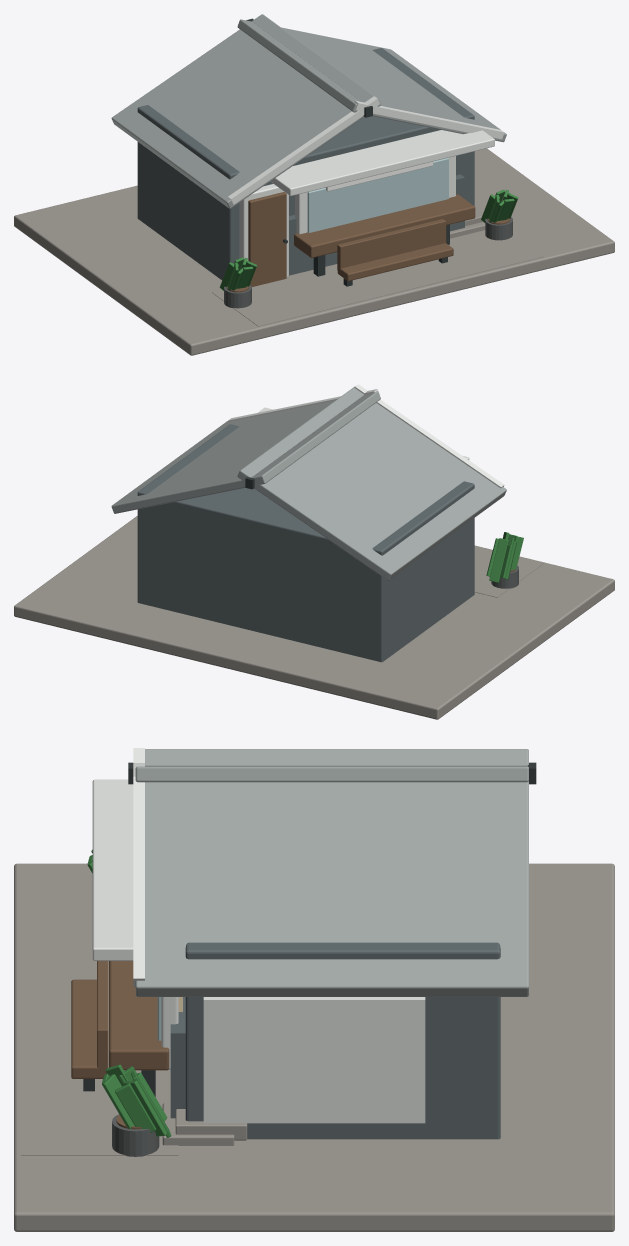
The model's file is canteen.fbx.
The picture shows the model from 3 angles, top to bottom: view 1: azimuth 30°, elevation 25°; view 2: azimuth 150°, elevation 25°; view 3: azimuth 270°, elevation 25°; orthographic projection. The views are drawn at different scales.
Parts seen in each view (by area): view 1: Platform, RoofLeft, MainBuilding, EntranceSlab, RoofRight, FrontAwning, ServingWindowGlass, Counter, Door, BenchBack, FasciaLeft, BenchSeat (+7 smaller); view 2: MainBuilding, Platform, RoofLeft, RoofRight, EntranceSlab, FasciaLeft, FasciaRight, Leaf.002; view 3: Platform, RoofRight, RightSidePanel, MainBuilding, EntranceSlab, FrontAwning, RoofLeft, Counter, BenchSeat, FasciaRight, FrontLowerWall, BenchBack (+5 smaller).
Part boxes in pixels (x1,y1,x2,y2): Platform: (14, 148, 614, 355); RoofLeft: (111, 14, 380, 208); MainBuilding: (137, 48, 474, 280); EntranceSlab: (212, 230, 543, 326); RoofRight: (237, 19, 506, 142); FrontAwning: (270, 130, 494, 195); ServingWindowGlass: (307, 158, 448, 232); Counter: (294, 194, 475, 257); Door: (248, 192, 286, 286); BenchBack: (337, 219, 446, 271); FasciaLeft: (228, 96, 379, 204); BenchSeat: (337, 243, 453, 281); MainBuilding: (137, 424, 474, 662); Platform: (14, 516, 614, 719); RoofLeft: (237, 386, 506, 580); RoofRight: (111, 391, 380, 513); EntranceSlab: (474, 546, 543, 597); FasciaLeft: (354, 384, 504, 488); FasciaRight: (228, 389, 378, 421); Leaf.002: (489, 538, 508, 582); Platform: (14, 863, 614, 1231); RoofRight: (135, 749, 528, 996); RightSidePanel: (203, 997, 425, 1123); MainBuilding: (185, 942, 500, 1139); EntranceSlab: (21, 919, 178, 1155); FrontAwning: (92, 779, 133, 960); RoofLeft: (135, 765, 528, 782); Counter: (109, 961, 169, 1070); BenchSeat: (71, 979, 106, 1078); FasciaRight: (133, 748, 144, 987); FrontLowerWall: (170, 997, 185, 1118); BenchBack: (97, 961, 108, 1073).
Size of the model in its own units: 1160 by 465 by 840.
